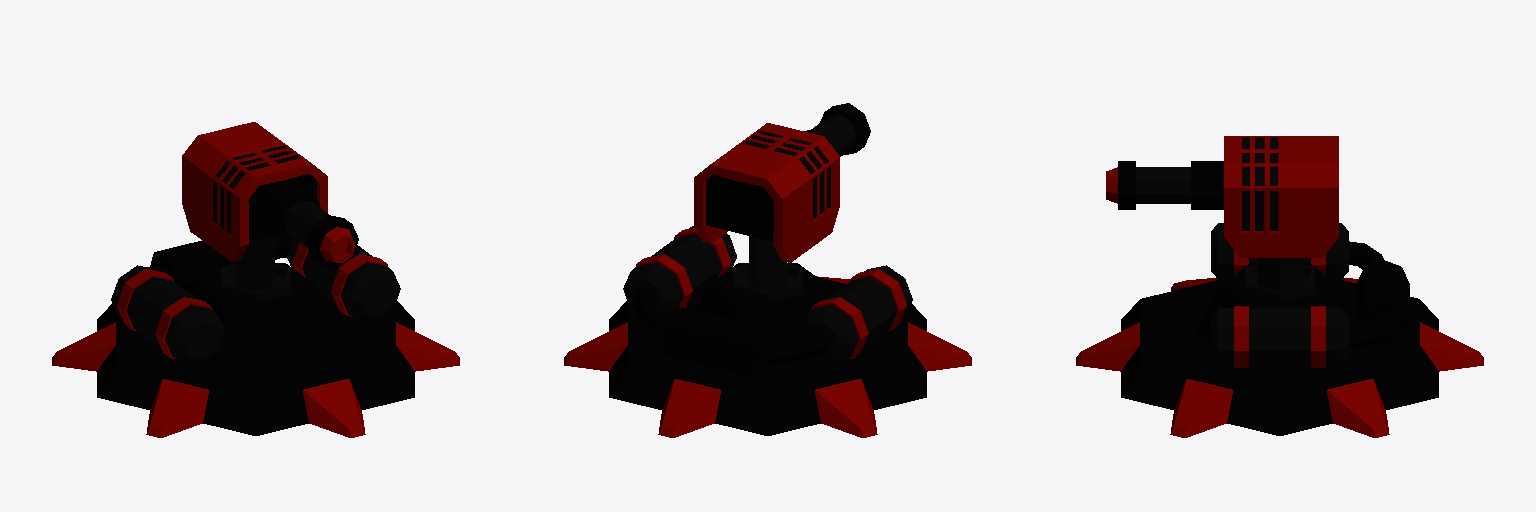
Rendered from FlamethrowerTurret.obj.
3 renders of one model, left to right at view 1: azimuth 30°, elevation 25°; view 2: azimuth 150°, elevation 25°; view 3: azimuth 270°, elevation 25°, orthographic.
Visible parts, largest first — view 1: BaseFlamethrowerTurret1, HeadFlamethrowerTurret1, AmmoFlamethrowerTurret1, MiddleFlamethrowerTurret1; view 2: BaseFlamethrowerTurret1, AmmoFlamethrowerTurret1, HeadFlamethrowerTurret1, MiddleFlamethrowerTurret1; view 3: BaseFlamethrowerTurret1, HeadFlamethrowerTurret1, AmmoFlamethrowerTurret1, MiddleFlamethrowerTurret1.
Boxes of the visible parts, x1,y1,x2,y2 form: BaseFlamethrowerTurret1: [52, 294, 459, 437]; HeadFlamethrowerTurret1: [182, 122, 358, 267]; AmmoFlamethrowerTurret1: [111, 235, 400, 365]; MiddleFlamethrowerTurret1: [191, 236, 339, 363]; BaseFlamethrowerTurret1: [564, 276, 971, 437]; AmmoFlamethrowerTurret1: [623, 226, 912, 375]; HeadFlamethrowerTurret1: [694, 103, 870, 262]; MiddleFlamethrowerTurret1: [696, 236, 832, 363]; BaseFlamethrowerTurret1: [1076, 278, 1483, 437]; HeadFlamethrowerTurret1: [1106, 136, 1338, 257]; AmmoFlamethrowerTurret1: [1211, 223, 1409, 367]; MiddleFlamethrowerTurret1: [1196, 258, 1356, 343].
Size of the model in its own units: 4.42 by 2.81 by 4.92.